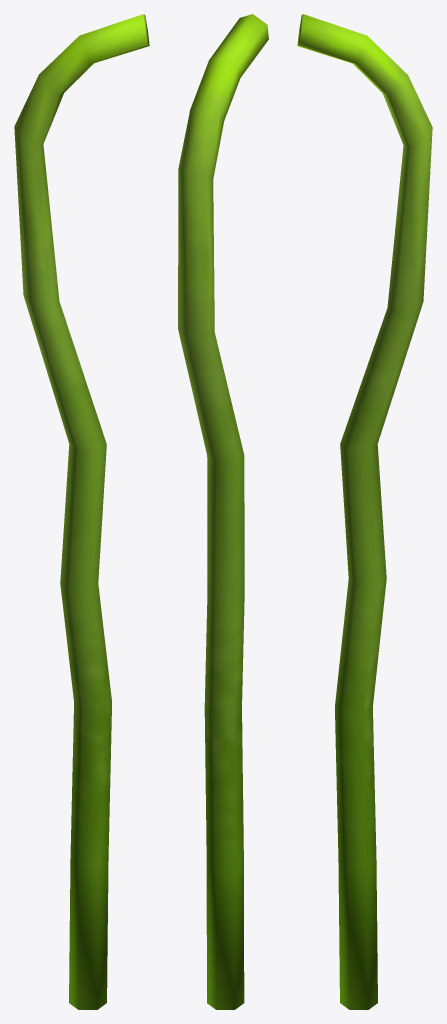
File: stem05.fbx
3 views of the same model, side by side, from view 1: azimuth 90°, elevation 25°; view 2: azimuth 150°, elevation 25°; view 3: azimuth 270°, elevation 25° (orthographic). The views are drawn at different scales.
Parts seen in each view (by area): view 1: stem05; view 2: stem05; view 3: stem05.
Part boxes in pixels (x1,y1,x2,y2): stem05: (14, 14, 149, 1009); stem05: (178, 14, 268, 1009); stem05: (297, 14, 432, 1009).
Bounding box in the file's own units: 42.93 × 1017 × 126.
